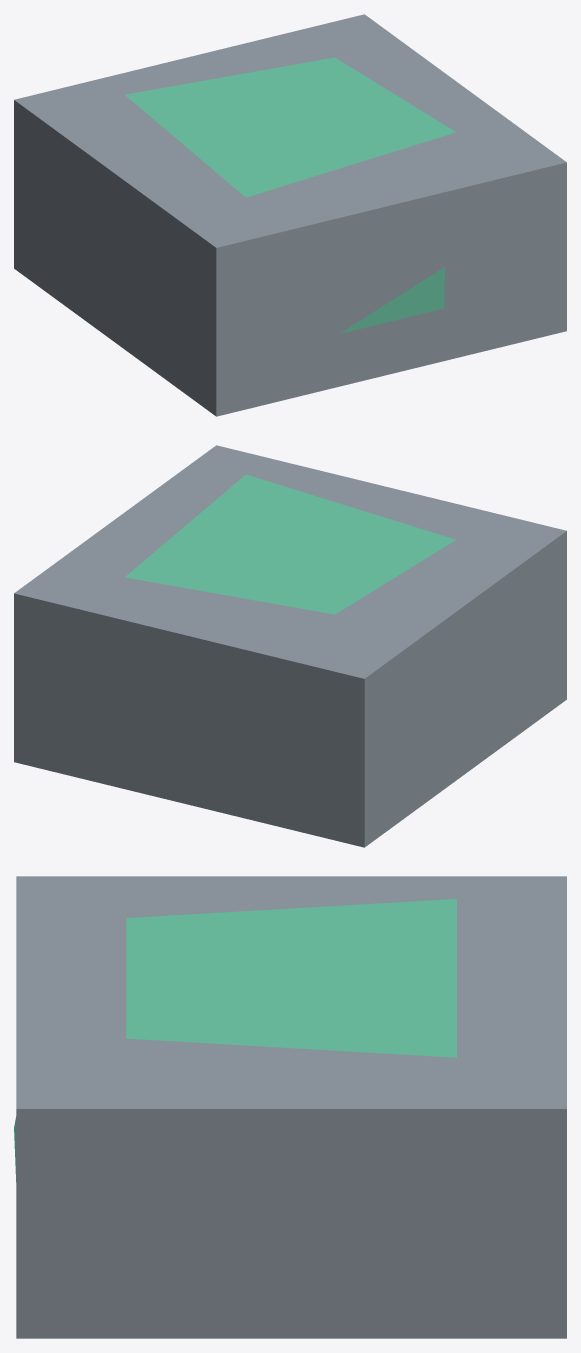
Rendered from CO_Airfield_LOD1.glb.
The picture shows the model from 3 angles, top to bottom: view 1: azimuth 30°, elevation 25°; view 2: azimuth 150°, elevation 25°; view 3: azimuth 270°, elevation 25°; orthographic projection. The views are drawn at different scales.
Parts seen in each view (by area): view 1: EntranceGate; view 2: EntranceGate; view 3: EntranceGate.
Part boxes in pixels (<box>): EntranceGate: <box>14,14,566,416</box>; EntranceGate: <box>14,445,566,847</box>; EntranceGate: <box>14,876,566,1338</box>.
Size of the model in its own units: 800 by 406 by 803.
